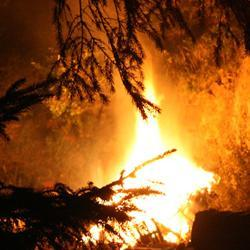fire: (121, 157, 197, 224), (132, 96, 166, 156)
